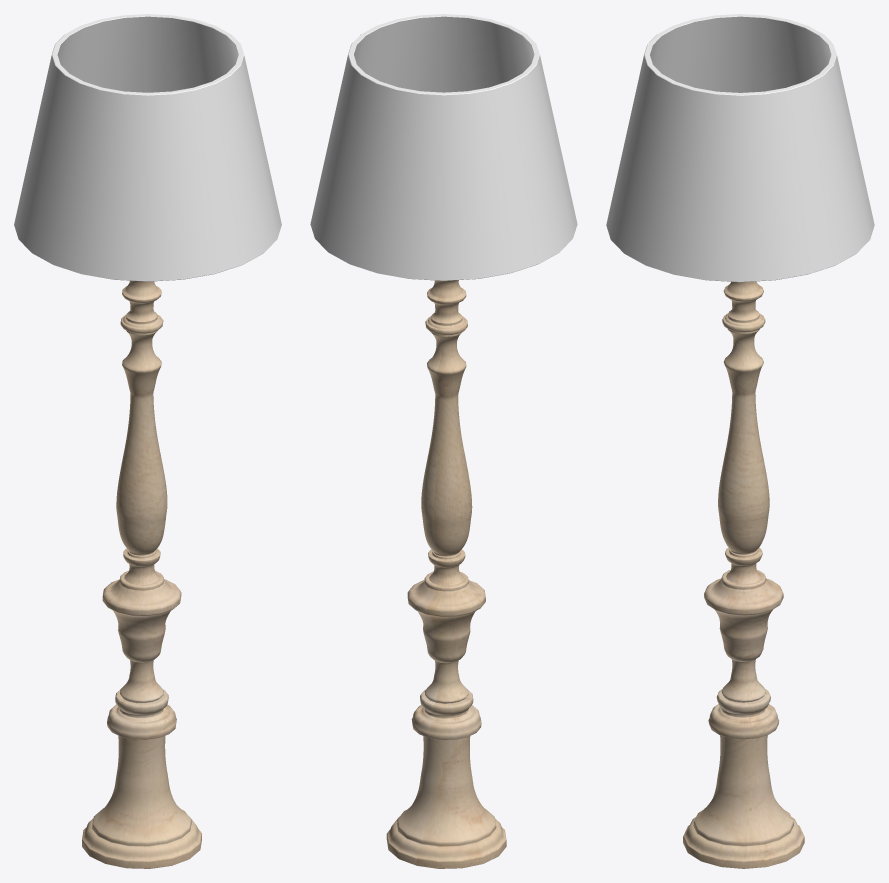
Rendered from lamparaPiso.obj.
3 views of the same model, side by side, from view 1: azimuth 30°, elevation 25°; view 2: azimuth 150°, elevation 25°; view 3: azimuth 270°, elevation 25° (orthographic).
Parts seen in each view (by area): view 1: polySurface1499; view 2: polySurface1499; view 3: polySurface1499.
Boxes of the visible parts, <box> form: polySurface1499: <box>14,14,281,868</box>; polySurface1499: <box>310,14,577,868</box>; polySurface1499: <box>606,14,874,868</box>.
Size of the model in its own units: 1.34 by 4.35 by 1.34.
3 materials, 3 textured.
